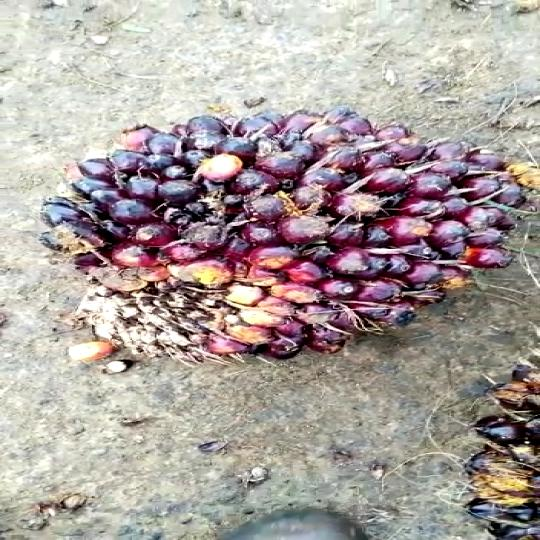mentah: (44, 95, 540, 365)
